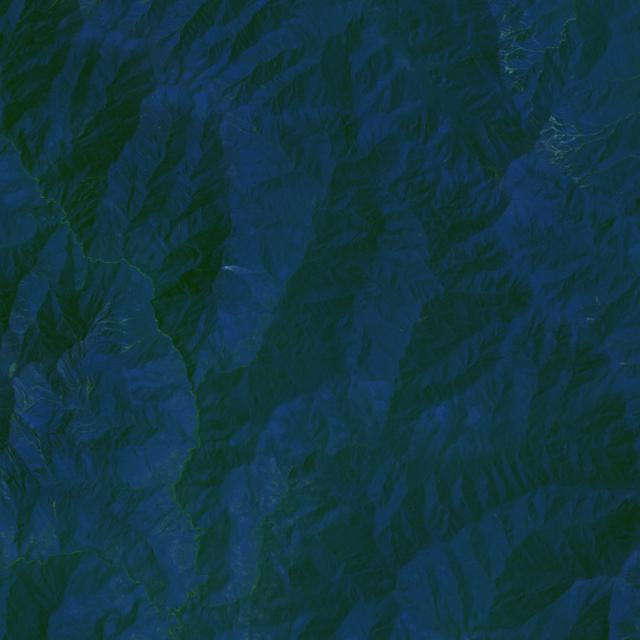landslides: (549, 115, 579, 134), (221, 265, 267, 275), (501, 0, 520, 22), (503, 47, 529, 63), (546, 133, 573, 146), (9, 310, 36, 321), (572, 171, 592, 184), (483, 165, 500, 178), (499, 27, 519, 38), (35, 386, 57, 396), (86, 376, 93, 405), (621, 629, 639, 640), (408, 120, 419, 137), (539, 126, 562, 134), (233, 123, 248, 133), (508, 67, 529, 74), (8, 363, 17, 379), (560, 135, 576, 144), (53, 500, 58, 527), (443, 150, 452, 163), (551, 155, 564, 164), (580, 181, 596, 188), (117, 317, 132, 324), (229, 89, 239, 99)
